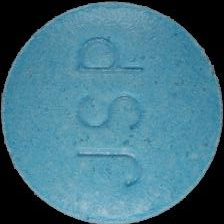51655-297: (0, 0, 224, 224)
